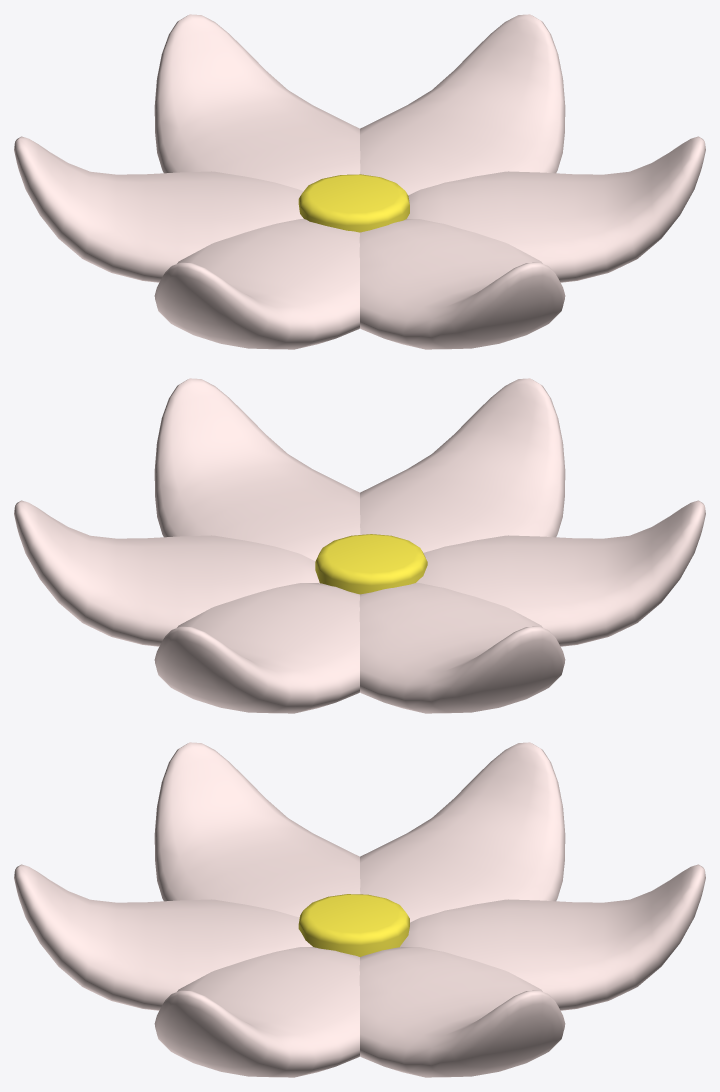
File: Town_11_Flower_1.glb
3 renders of one model, top to bottom at view 1: azimuth 30°, elevation 25°; view 2: azimuth 150°, elevation 25°; view 3: azimuth 270°, elevation 25°, orthographic.
Parts seen in each view (by area): view 1: Town_11_Flower_1; view 2: Town_11_Flower_1; view 3: Town_11_Flower_1.
Part boxes in pixels (x1,y1,x2,y2): Town_11_Flower_1: (14, 14, 705, 349); Town_11_Flower_1: (14, 378, 705, 713); Town_11_Flower_1: (14, 742, 705, 1077).
Bounding box in the file's own units: 0.4326 × 0.1045 × 0.4898.
Materials: 1 (1 with a texture image).
